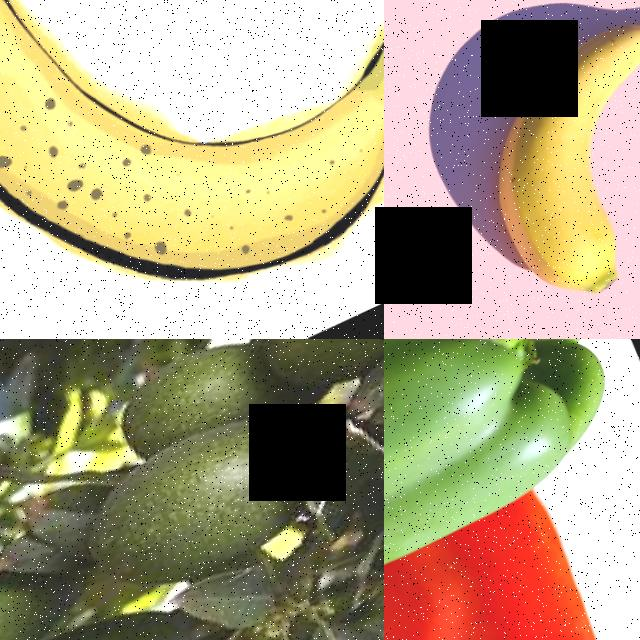avocado: (46, 362, 384, 622), (100, 339, 305, 470), (0, 566, 260, 640), (0, 509, 123, 640), (233, 339, 384, 409)
banana: (0, 0, 384, 339), (384, 0, 640, 339)
bell pepper: (384, 339, 640, 640), (384, 498, 640, 640)
